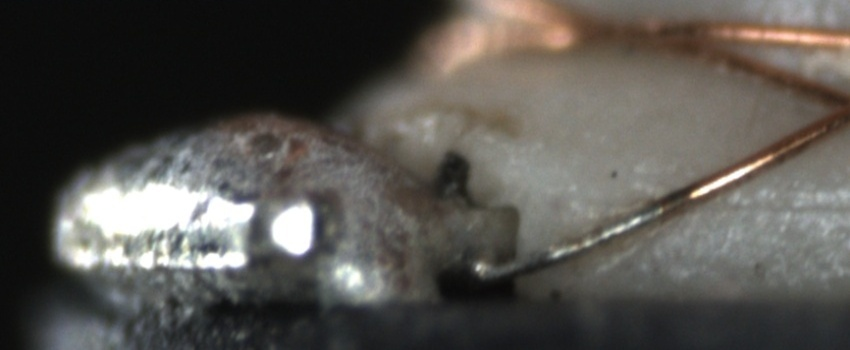CL: (804, 72, 850, 135)
DL: (590, 176, 849, 230)
TS: (477, 203, 666, 284)
